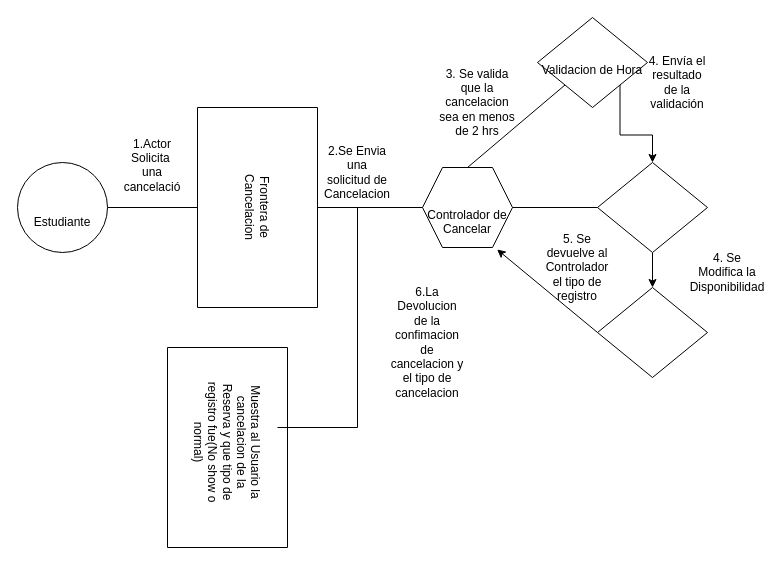
This 782x565 diagram has some shape labels left out. The shapes that lost their labels are listed below. From the top down, each one's centre as x and y in pixels, then its label:
At (652,207): "Registro de Cancelacion".
At (652,332): "Disponibilidad".
